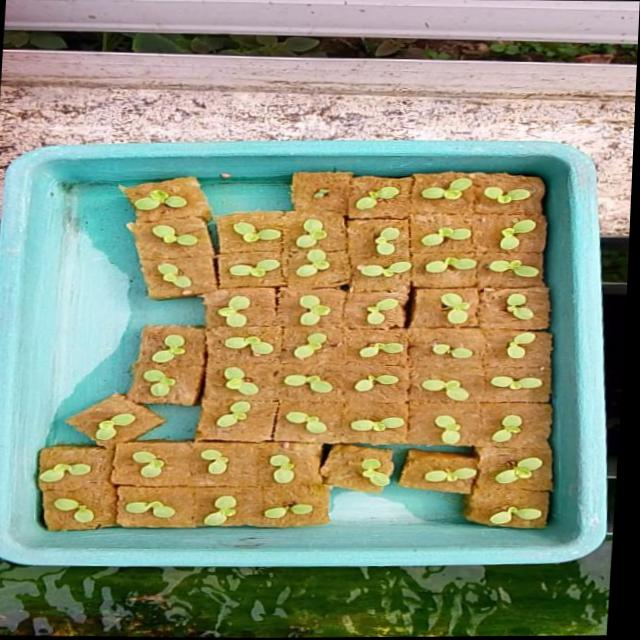Baby: (109, 402, 166, 442), (496, 415, 558, 448), (59, 494, 122, 526), (253, 251, 306, 279), (227, 366, 280, 394), (77, 464, 130, 492), (244, 332, 293, 360), (386, 295, 430, 325), (535, 287, 576, 319), (445, 336, 506, 357), (134, 496, 193, 517), (160, 367, 195, 401), (452, 173, 503, 196), (532, 216, 568, 248), (157, 187, 211, 208), (384, 182, 429, 207), (515, 257, 574, 276), (241, 294, 274, 327), (468, 290, 500, 323), (445, 379, 493, 401), (324, 293, 356, 325), (236, 400, 271, 429), (176, 223, 222, 245), (375, 372, 425, 392), (322, 247, 356, 276), (223, 495, 255, 525), (384, 258, 440, 275), (322, 218, 353, 248), (316, 331, 350, 358), (453, 254, 506, 271), (258, 218, 305, 237), (181, 261, 215, 287), (306, 374, 355, 392), (514, 182, 562, 200), (154, 449, 186, 476), (532, 332, 563, 358), (516, 376, 569, 391), (458, 415, 485, 444), (402, 223, 428, 252), (290, 455, 316, 484), (173, 332, 206, 354), (382, 341, 427, 357), (221, 449, 248, 474), (315, 412, 346, 433), (460, 225, 500, 239)
